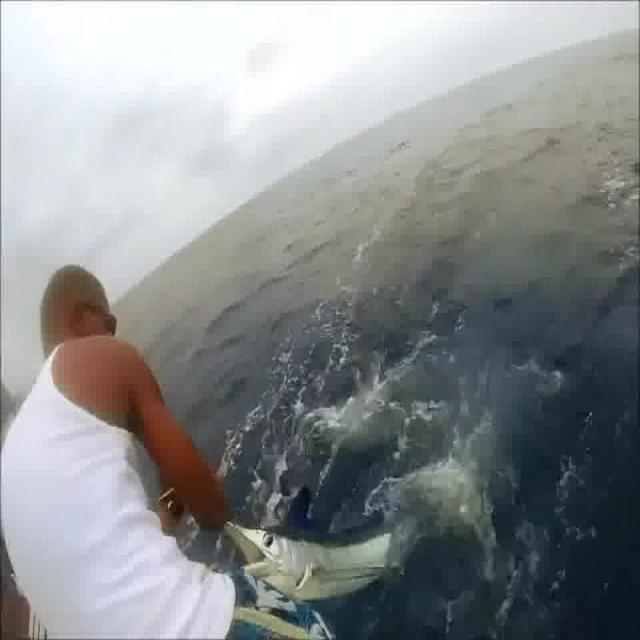White Marlin: (220, 515, 402, 605)
